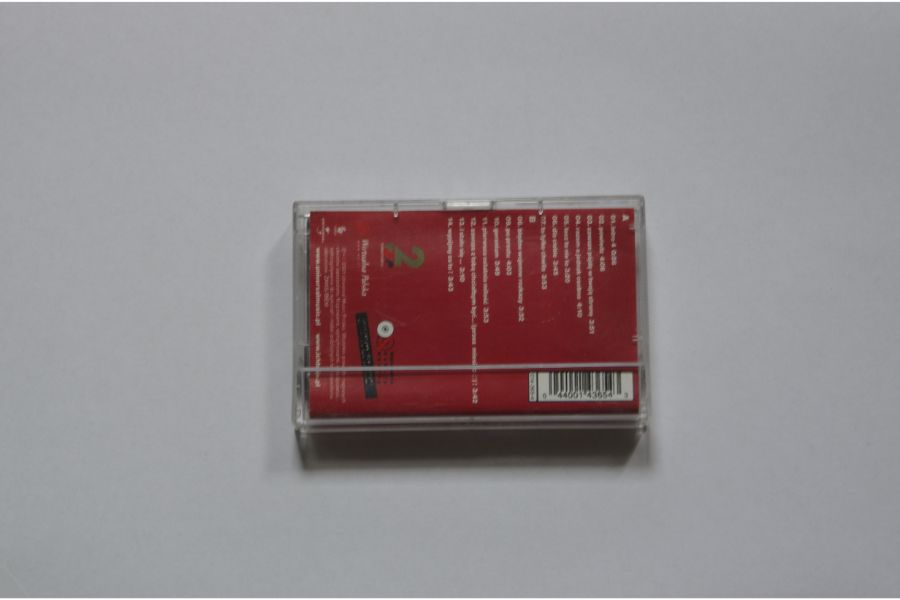album: (291, 193, 651, 433)
